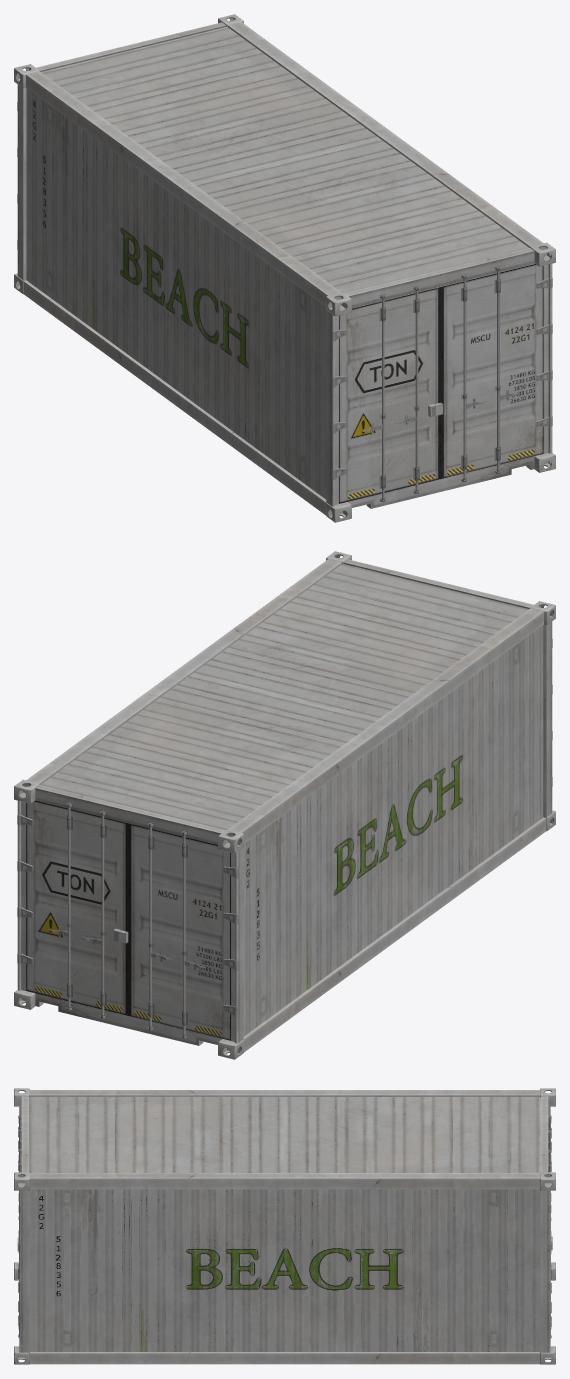
Rendered from MB_Container_01.fbx.
3 views of the same model, one above another, from view 1: azimuth 30°, elevation 25°; view 2: azimuth 150°, elevation 25°; view 3: azimuth 270°, elevation 25° (orthographic). The views are drawn at different scales.
Parts seen in each view (by area): view 1: MB_Container_LOD0; view 2: MB_Container_LOD0, MB_Container_Door_01_LOD0; view 3: MB_Container_LOD0.
Boxes of the visible parts, x1,y1,x2,y2 form: MB_Container_LOD0: (14,14,555,522); MB_Container_LOD0: (14,551,555,1059); MB_Container_Door_01_LOD0: (128,823,238,1040); MB_Container_LOD0: (14,1088,555,1364).
Size of what is drawn, in the model's own units: 333 by 316 by 837.
